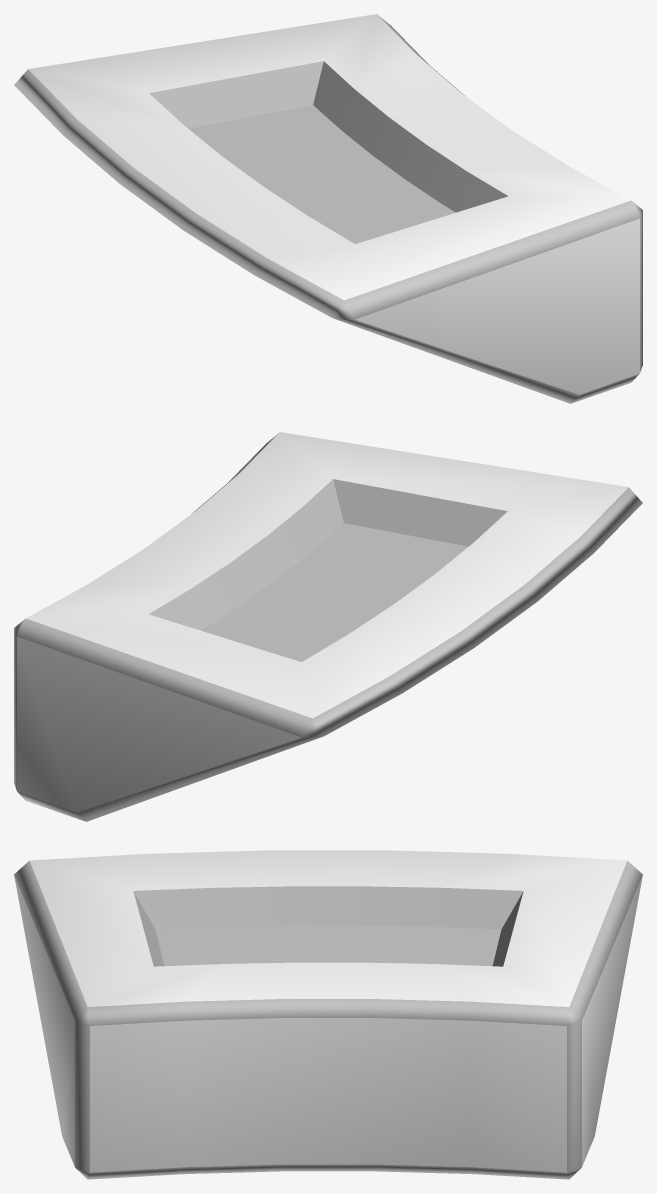
File: Brick_LOD2_10 cutted.fbx
The picture shows the model from 3 angles, top to bottom: view 1: azimuth 30°, elevation 25°; view 2: azimuth 150°, elevation 25°; view 3: azimuth 270°, elevation 25°; orthographic projection. The views are drawn at different scales.
Parts seen in each view (by area): view 1: Brick_LOD2; view 2: Brick_LOD2; view 3: Brick_LOD2.
Boxes of the visible parts, x1=… form: Brick_LOD2: x1=14, y1=14, x2=642, y2=403; Brick_LOD2: x1=14, y1=432, x2=642, y2=821; Brick_LOD2: x1=14, y1=850, x2=642, y2=1179.
Size of the model in its own units: 1.05 by 0.5 by 1.65.
Materials: 1 (1 with a texture image).
